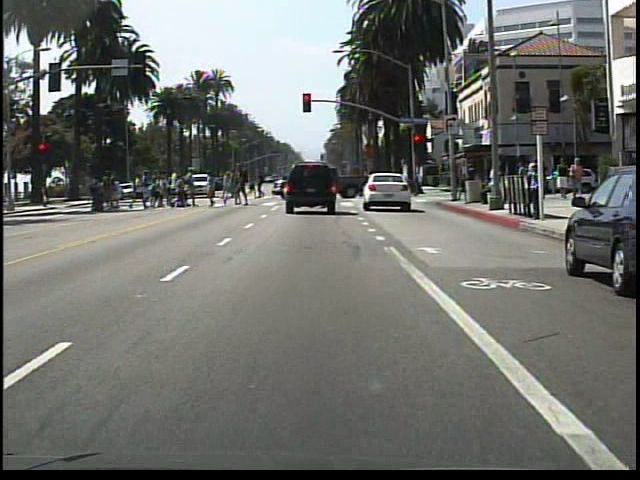person: (522, 159, 541, 222), (569, 155, 588, 202), (554, 155, 571, 199)
